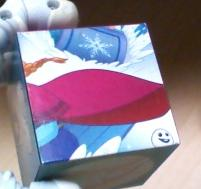Red1: (16, 31, 179, 163)
